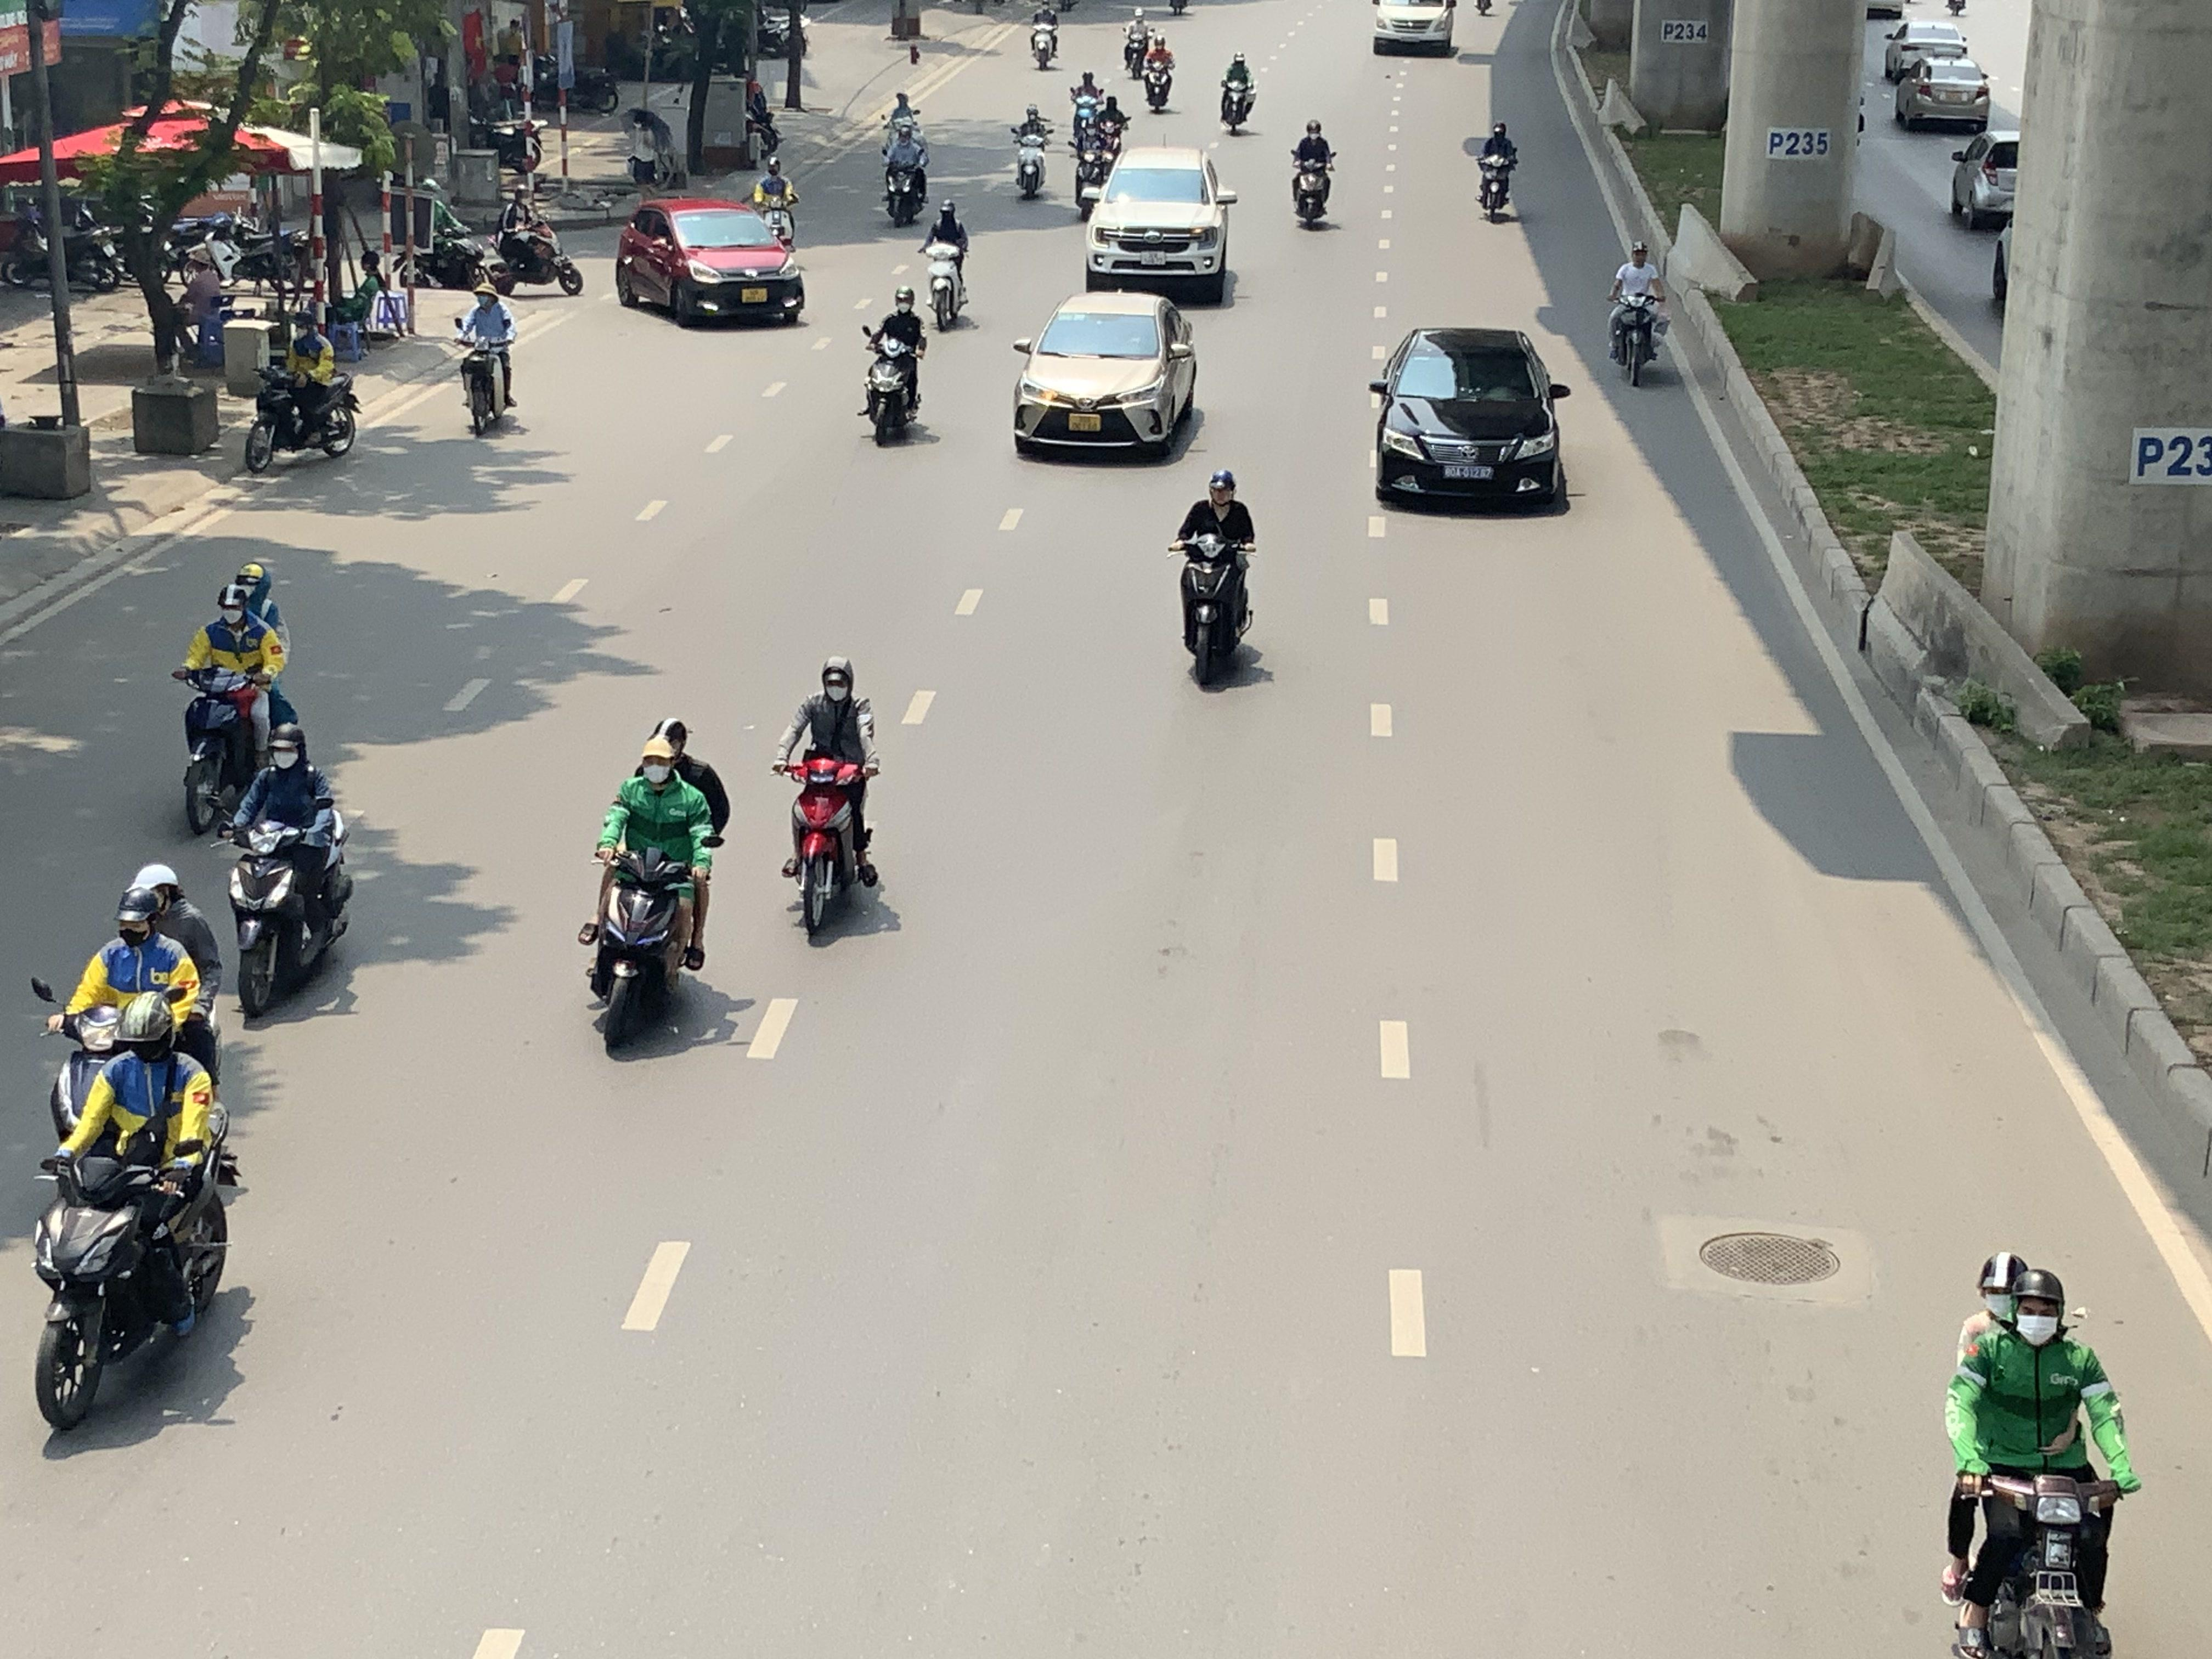BSD: (1444, 465, 1493, 477)
BSV: (1069, 415, 1101, 432), (742, 288, 766, 301)
car: (1369, 326, 1573, 514), (1010, 291, 1200, 462), (613, 199, 808, 329), (1082, 145, 1240, 303), (1892, 54, 1993, 132), (1949, 129, 2019, 230), (1883, 16, 1968, 82), (1371, 0, 1460, 56)
motorbike: (30, 1014, 242, 1436), (1940, 1253, 2139, 1659), (31, 864, 230, 1150), (580, 720, 725, 1060), (225, 723, 355, 1023), (174, 575, 296, 836), (775, 657, 883, 946), (1170, 469, 1256, 692), (242, 321, 362, 472), (479, 190, 582, 298), (860, 286, 927, 446), (453, 282, 521, 437), (1608, 239, 1670, 389), (920, 202, 974, 331), (1071, 98, 1127, 220), (880, 119, 932, 228), (1289, 119, 1338, 230), (1472, 117, 1519, 223), (751, 157, 801, 247), (1010, 101, 1054, 200), (742, 78, 782, 167), (1217, 49, 1258, 134), (1141, 28, 1176, 113), (1068, 70, 1104, 143), (1028, 0, 1062, 71), (1120, 7, 1151, 78)
